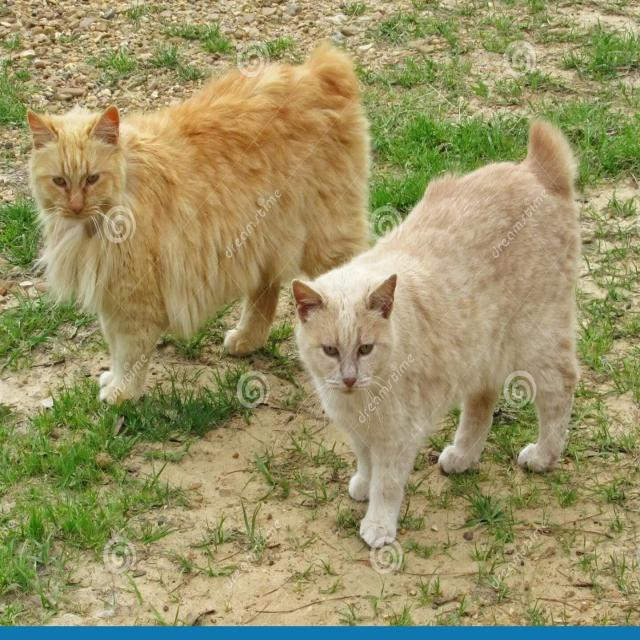American Bobtail: (22, 39, 370, 406), (290, 121, 586, 552)
